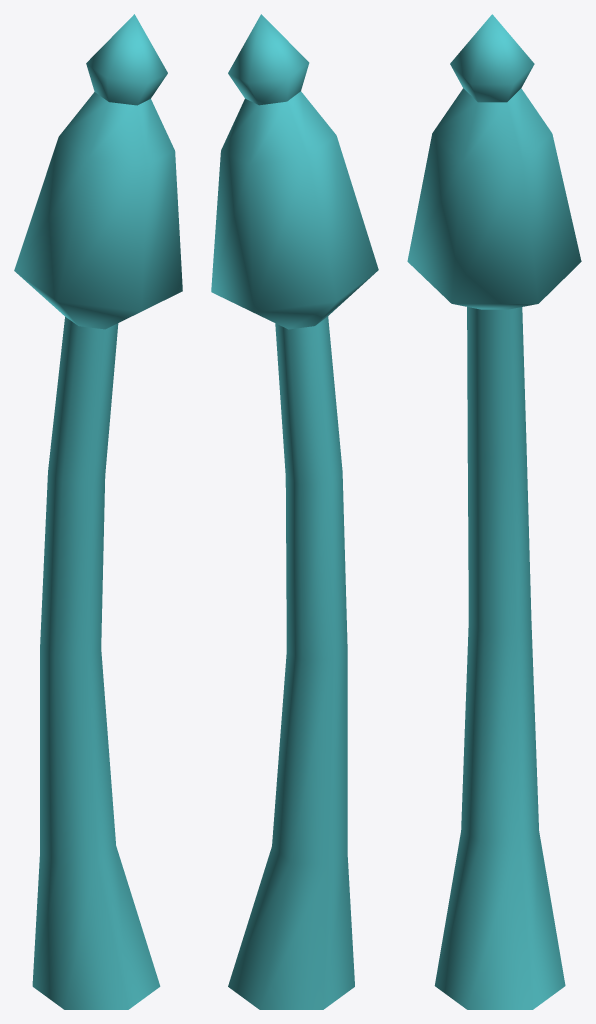
The model's file is fabulous_mushroom_003.glb.
3 views of the same model, side by side, from view 1: azimuth 30°, elevation 25°; view 2: azimuth 150°, elevation 25°; view 3: azimuth 270°, elevation 25° (orthographic). The views are drawn at different scales.
Parts seen in each view (by area): view 1: fabulous_mushroom_003; view 2: fabulous_mushroom_003; view 3: fabulous_mushroom_003.
Boxes of the visible parts, x1,y1,x2,y2 form: fabulous_mushroom_003: [14, 14, 182, 1009]; fabulous_mushroom_003: [211, 14, 378, 1009]; fabulous_mushroom_003: [407, 14, 581, 1009].
Size of the model in its own units: 0.2896 by 2.11 by 0.3369.
1 material, 1 textured.
